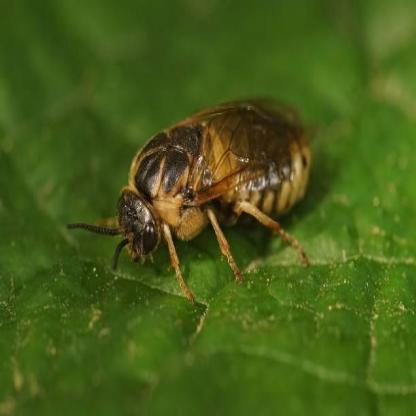sawfly: (64, 84, 320, 308)
